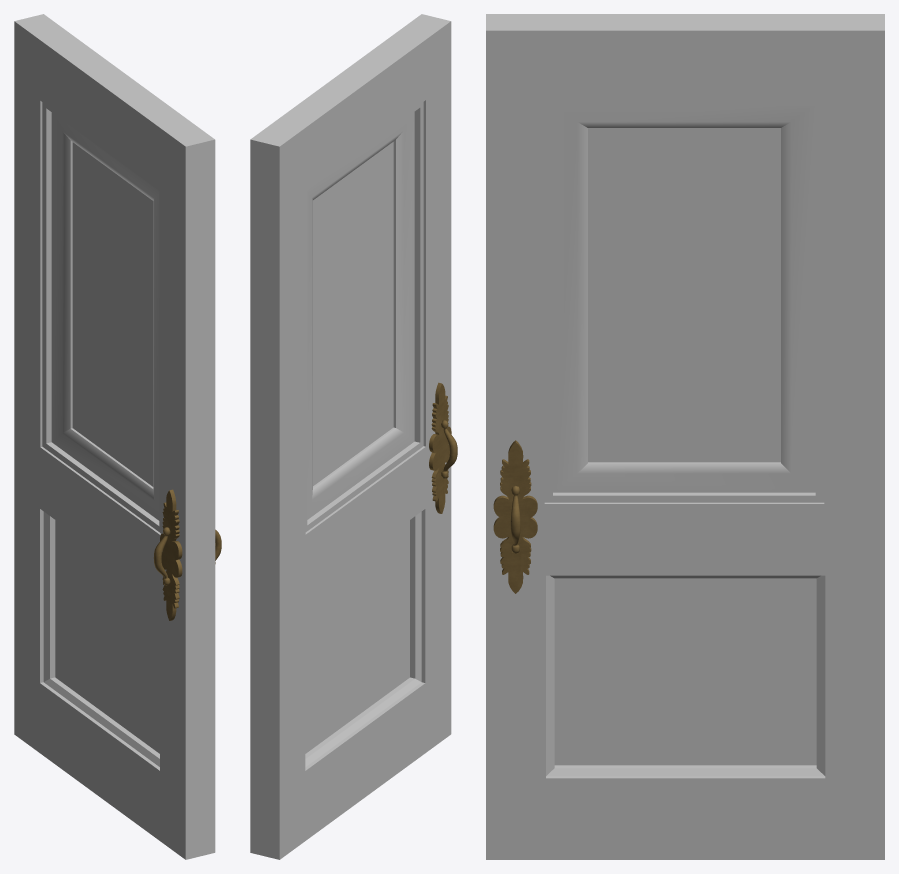
Rendered from SM_WD20_DOOR.fbx.
3 views of the same model, side by side, from view 1: azimuth 30°, elevation 25°; view 2: azimuth 150°, elevation 25°; view 3: azimuth 270°, elevation 25° (orthographic). The views are drawn at different scales.
Parts seen in each view (by area): view 1: SM_WD20_DOOR; view 2: SM_WD20_DOOR; view 3: SM_WD20_DOOR.
Part boxes in pixels (left/top/right/bottom): SM_WD20_DOOR: left=14, top=14, right=221, bottom=859; SM_WD20_DOOR: left=250, top=14, right=457, bottom=859; SM_WD20_DOOR: left=486, top=14, right=884, bottom=859.
Bounding box in the file's own units: 19.56 × 87.85 × 202.
